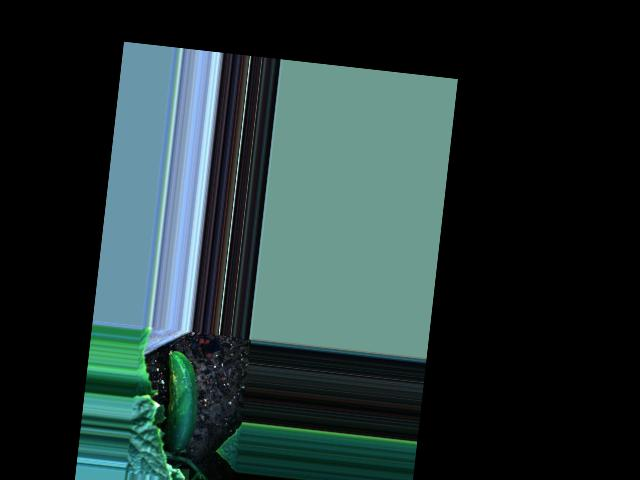cucumber: (157, 349, 203, 453)
